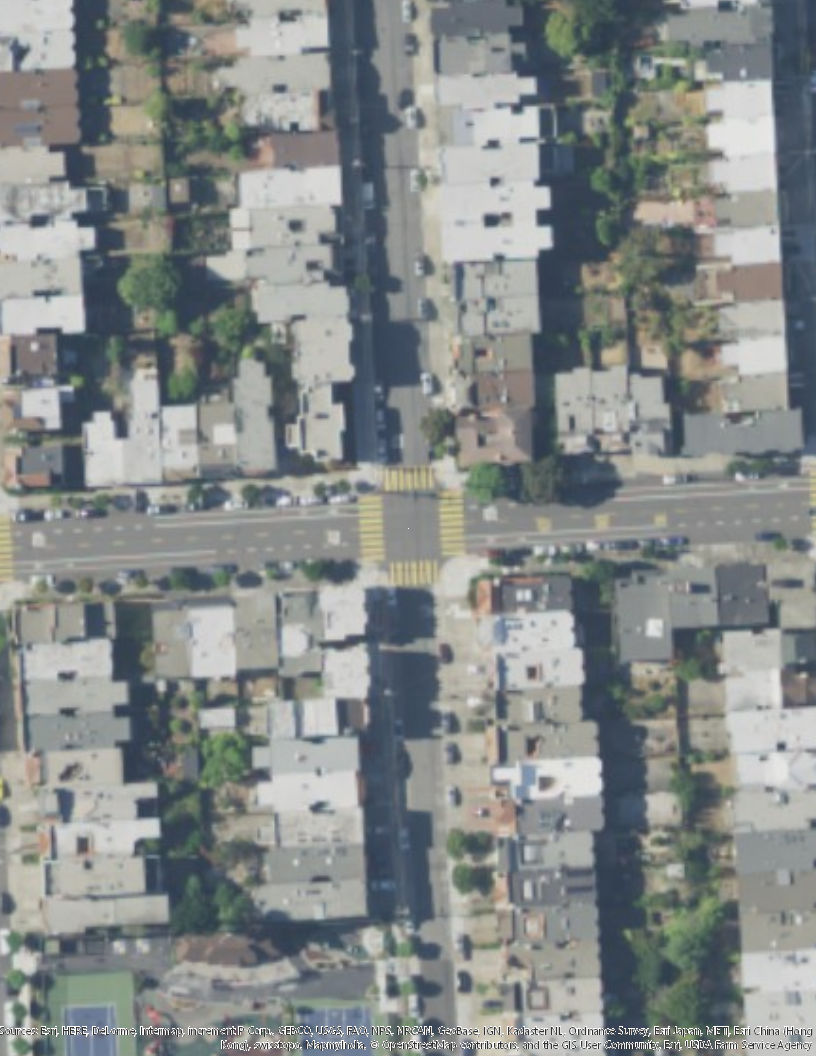zebracross: (356, 495, 384, 562), (382, 465, 440, 495), (440, 496, 466, 555), (388, 559, 437, 586), (1, 523, 14, 584)
